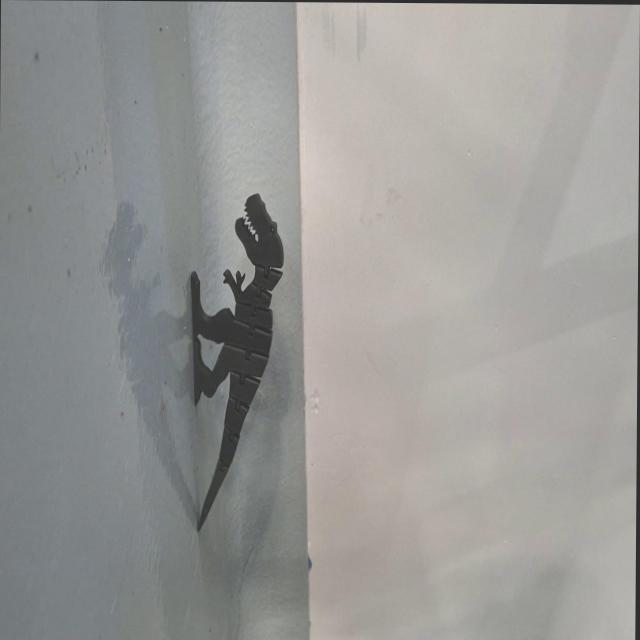dino: (188, 190, 284, 534)
